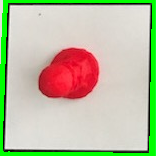Red Pawn: (36, 44, 101, 102)
